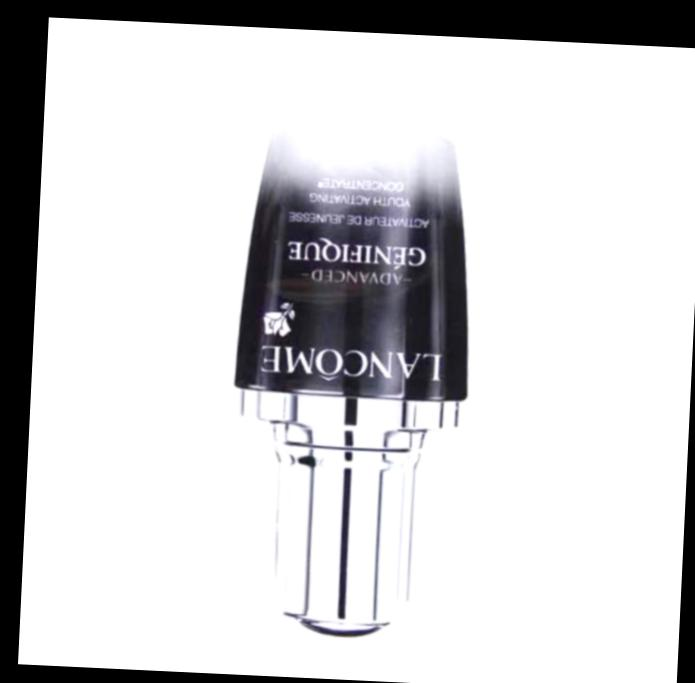cosmetic: (219, 64, 481, 645)
